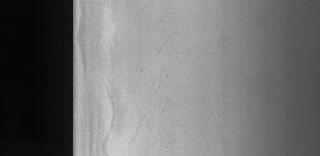silk spot: (128, 3, 188, 144)
